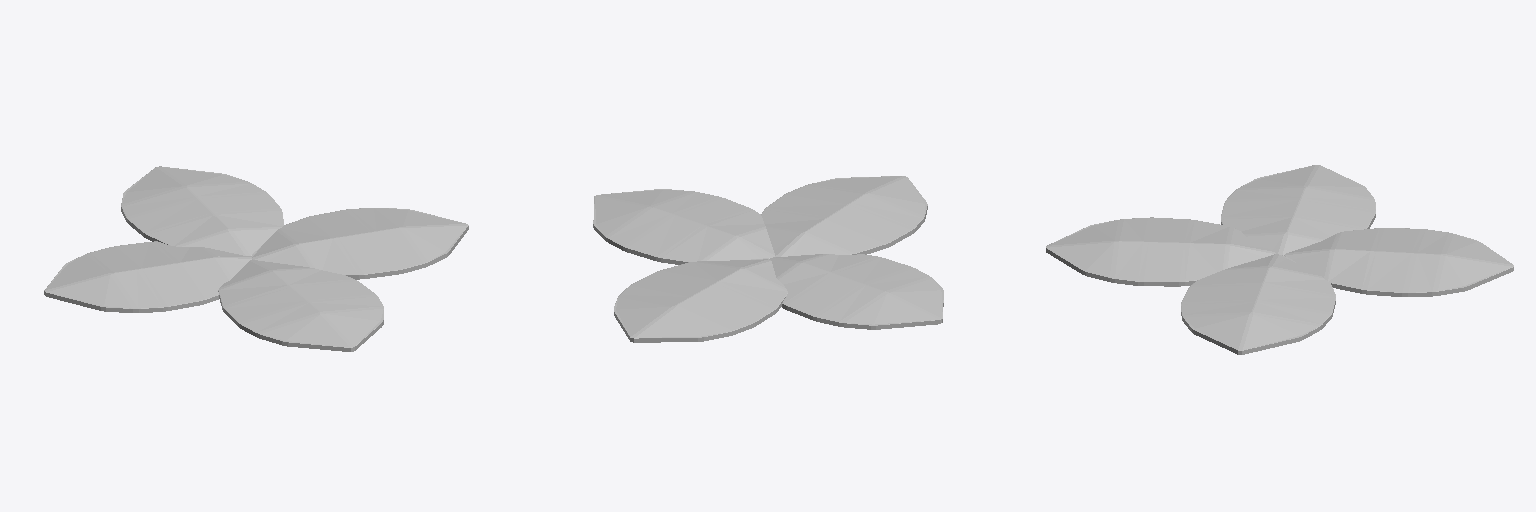
File: Plant.obj
3 views of the same model, side by side, from view 1: azimuth 30°, elevation 25°; view 2: azimuth 150°, elevation 25°; view 3: azimuth 270°, elevation 25° (orthographic).
Parts seen in each view (by area): view 1: Cube.004, Cube.002, Cube, Cube.005; view 2: Cube, Cube.002, Cube.004, Cube.005; view 3: Cube, Cube.002, Cube.004, Cube.005.
Boxes of the visible parts, <box> form: Cube.004: <box>218,260,383,351</box>; Cube.002: <box>252,208,468,279</box>; Cube: <box>121,166,283,255</box>; Cube.005: <box>44,241,251,312</box>; Cube: <box>614,259,787,342</box>; Cube.002: <box>593,189,774,264</box>; Cube.004: <box>761,176,927,256</box>; Cube.005: <box>769,254,943,329</box>; Cube: <box>1284,228,1513,296</box>; Cube.002: <box>1181,254,1335,354</box>; Cube.004: <box>1046,217,1275,286</box>; Cube.005: <box>1221,165,1375,255</box>.
Bounding box in the file's own units: 1.32 × 0.0455 × 1.39.